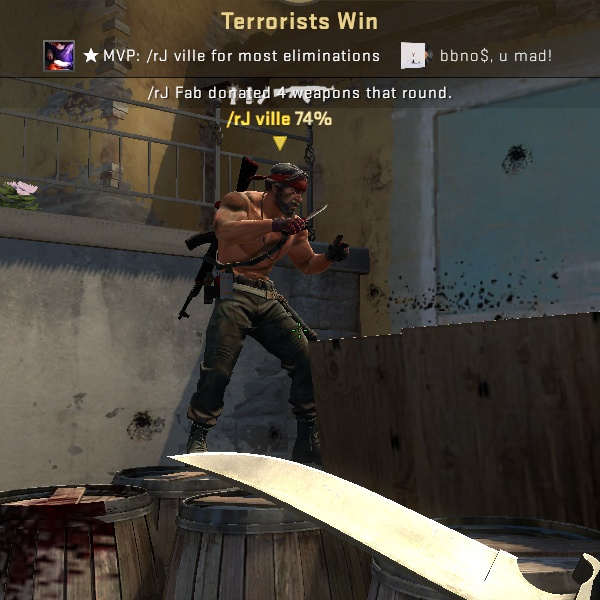t_body: (152, 152, 360, 470)
t_head: (249, 155, 316, 214)
